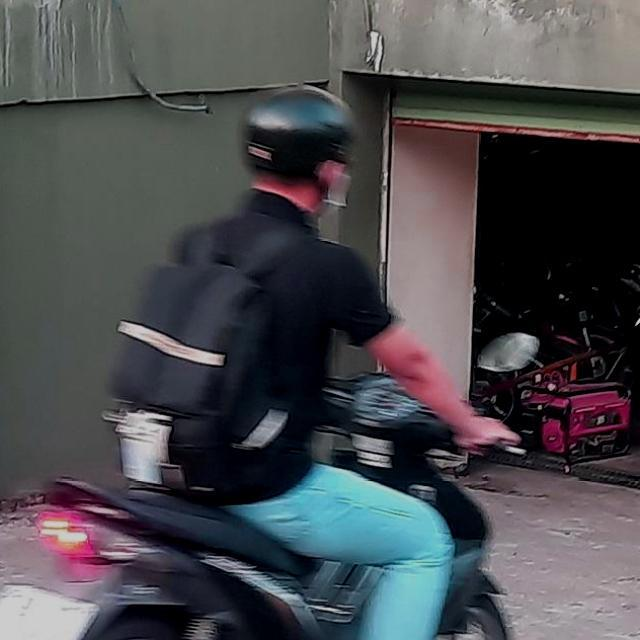Helmet: (236, 88, 363, 208)
